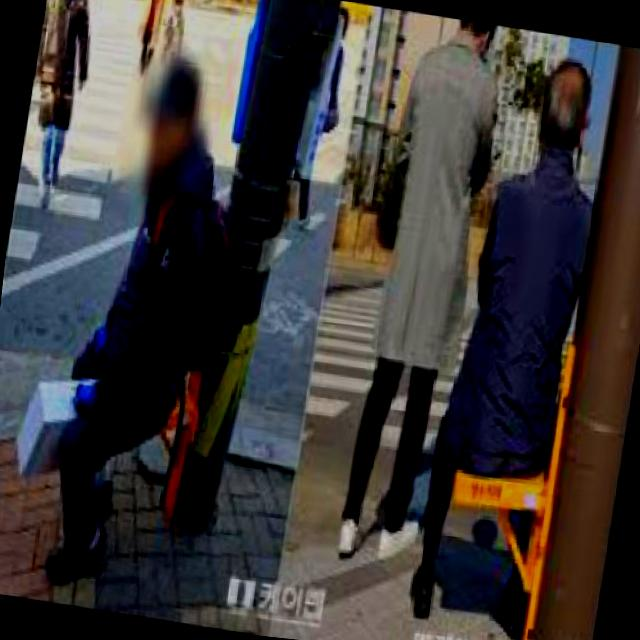Person: (411, 45, 618, 636), (40, 49, 254, 604), (334, 9, 516, 573), (14, 0, 103, 202)
